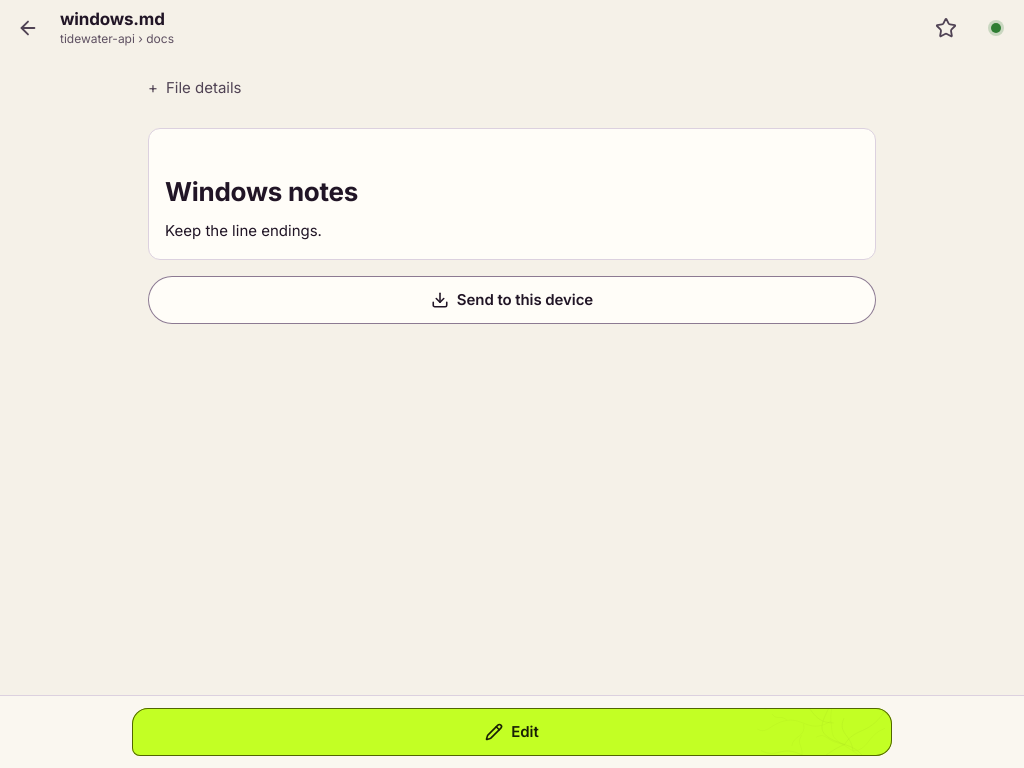
Scenario: retains a foreign revision received before our successful save receipt
Click the button "Edit".
click(512, 732)  # box [132,708,892,756]
Wait 500 ms
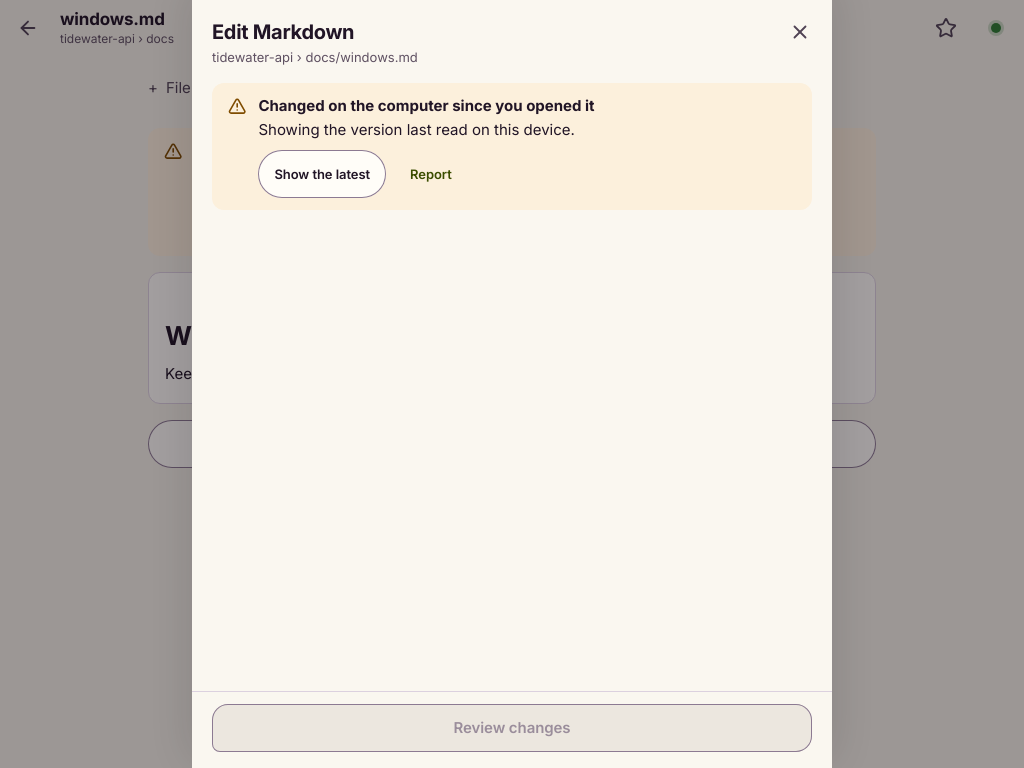
Expected: the text "Changed on the computer since you opened it" below "File details" is shown, [194,141,531,160]
